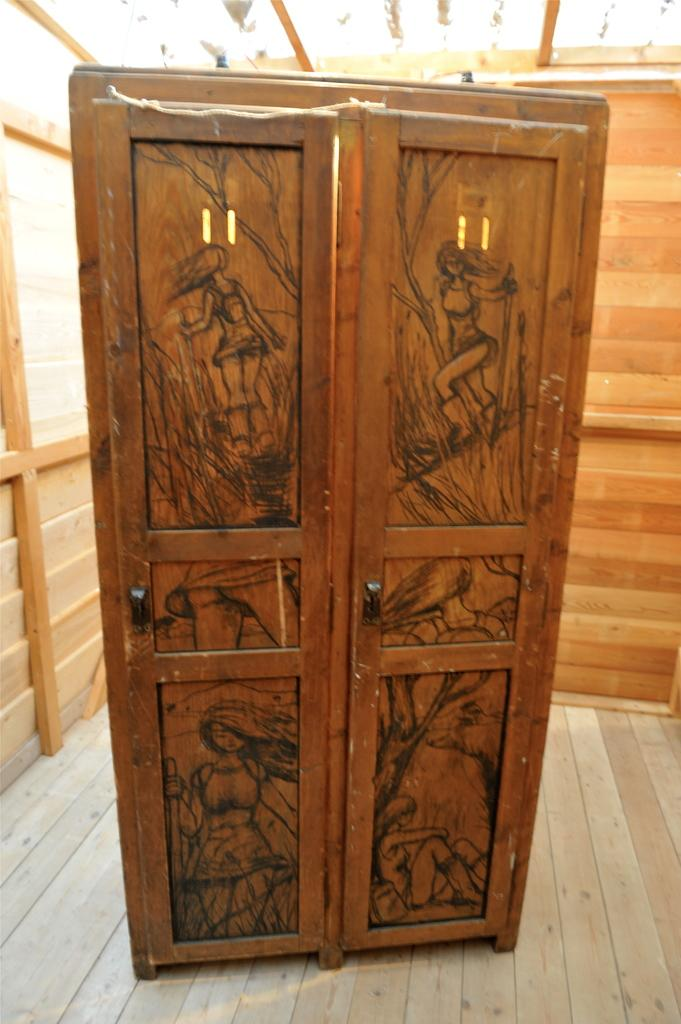cabinet_door: (121, 120, 322, 954), (360, 124, 519, 946)
handle: (357, 564, 385, 642), (129, 582, 155, 646)
